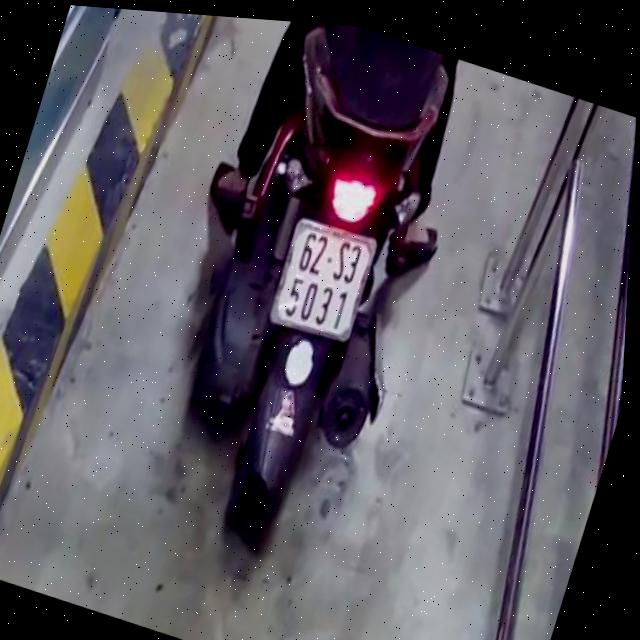motorcycle: (139, 12, 489, 570)
plate: (261, 210, 382, 348)
